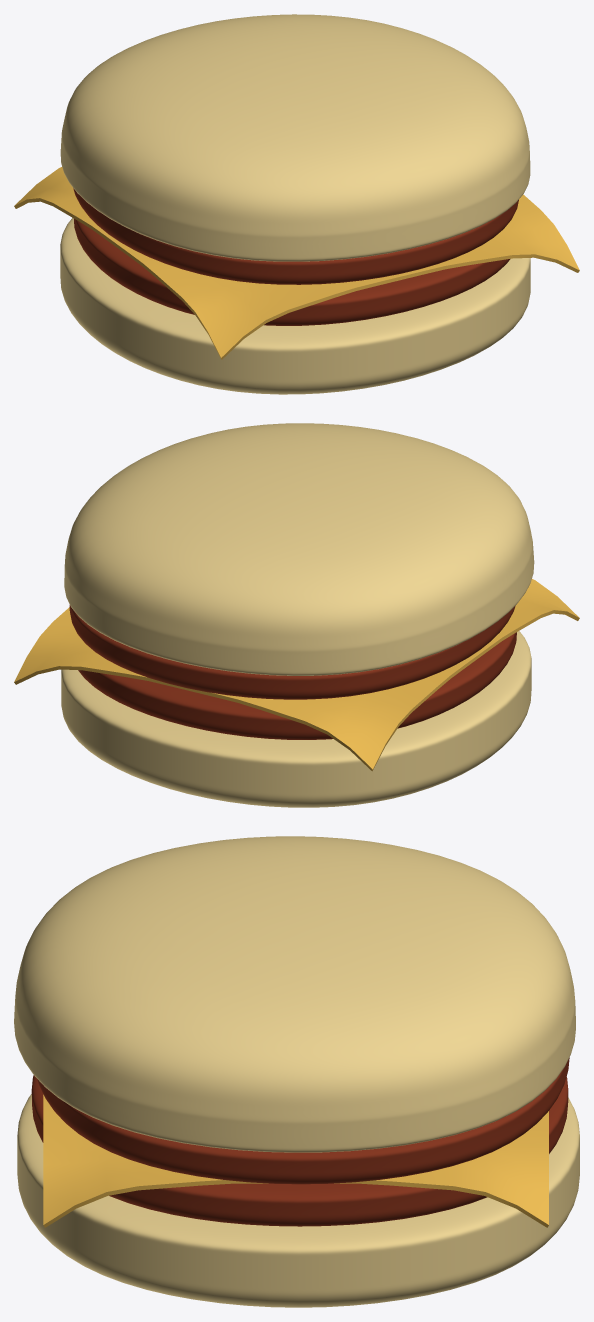
File: hamburger.glb
3 views of the same model, one above another, from view 1: azimuth 30°, elevation 25°; view 2: azimuth 150°, elevation 25°; view 3: azimuth 270°, elevation 25° (orthographic). The views are drawn at different scales.
Parts seen in each view (by area): view 1: Cube.002, Cube, Plane, Cube.003, Cube.001; view 2: Cube.002, Cube, Plane, Cube.003, Cube.001; view 3: Cube.002, Cube, Cube.003, Plane, Cube.001.
Boxes of the visible parts, x1,y1,x2,y2 form: Cube.002: [60, 14, 530, 261]; Cube: [60, 218, 530, 394]; Plane: [14, 167, 579, 359]; Cube.003: [73, 188, 518, 284]; Cube.001: [74, 219, 510, 325]; Cube.002: [64, 423, 534, 675]; Cube: [61, 631, 531, 807]; Plane: [14, 579, 579, 771]; Cube.003: [69, 605, 515, 699]; Cube.001: [78, 632, 516, 739]; Cube.002: [14, 836, 575, 1152]; Cube: [17, 1094, 579, 1307]; Cube.003: [37, 1057, 569, 1184]; Plane: [43, 1094, 548, 1227]; Cube.001: [31, 1075, 568, 1226].
Bounding box in the file's own units: 9.73 × 5.82 × 9.76.
